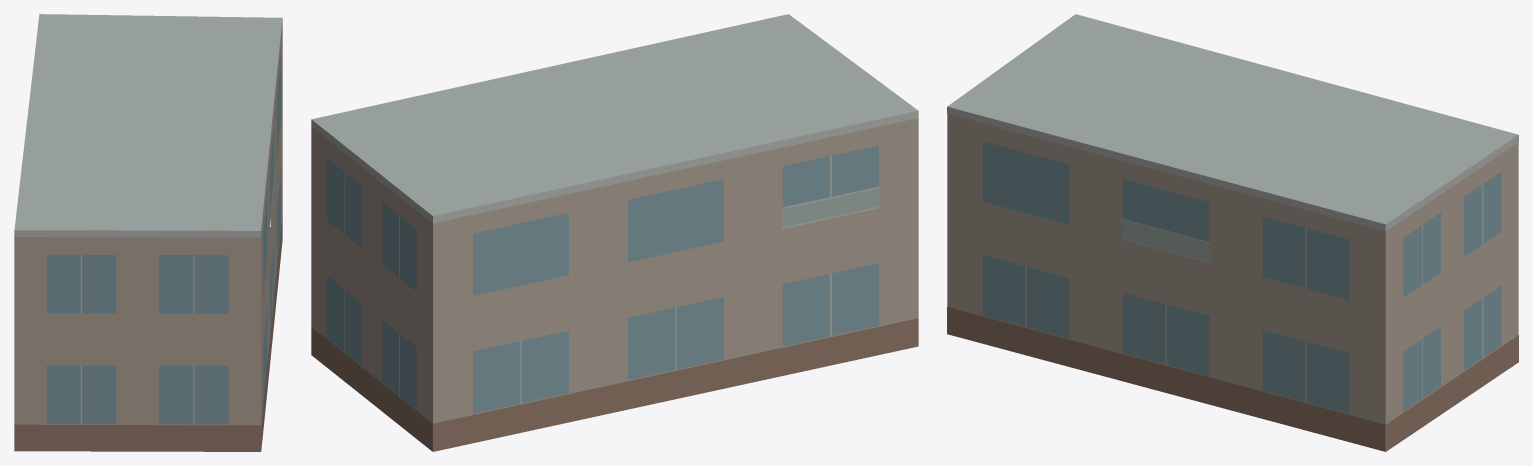
Rendered from survey-upis-32947244.glb.
The picture shows the model from 3 angles, left to right: view 1: azimuth 30°, elevation 25°; view 2: azimuth 150°, elevation 25°; view 3: azimuth 270°, elevation 25°; orthographic projection. The views are drawn at different scales.
Parts seen in each view (by area): view 1: survey-upis-32947244.tmp; view 2: survey-upis-32947244.tmp; view 3: survey-upis-32947244.tmp.
Part boxes in pixels (bbox=[...]): survey-upis-32947244.tmp: bbox=[14, 14, 282, 451]; survey-upis-32947244.tmp: bbox=[311, 14, 918, 451]; survey-upis-32947244.tmp: bbox=[947, 14, 1518, 451].
Size of the model in its own units: 15.48 by 7.8 by 17.77.
